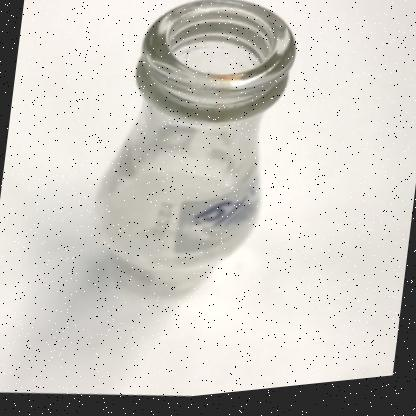Glass: (99, 1, 296, 299)
